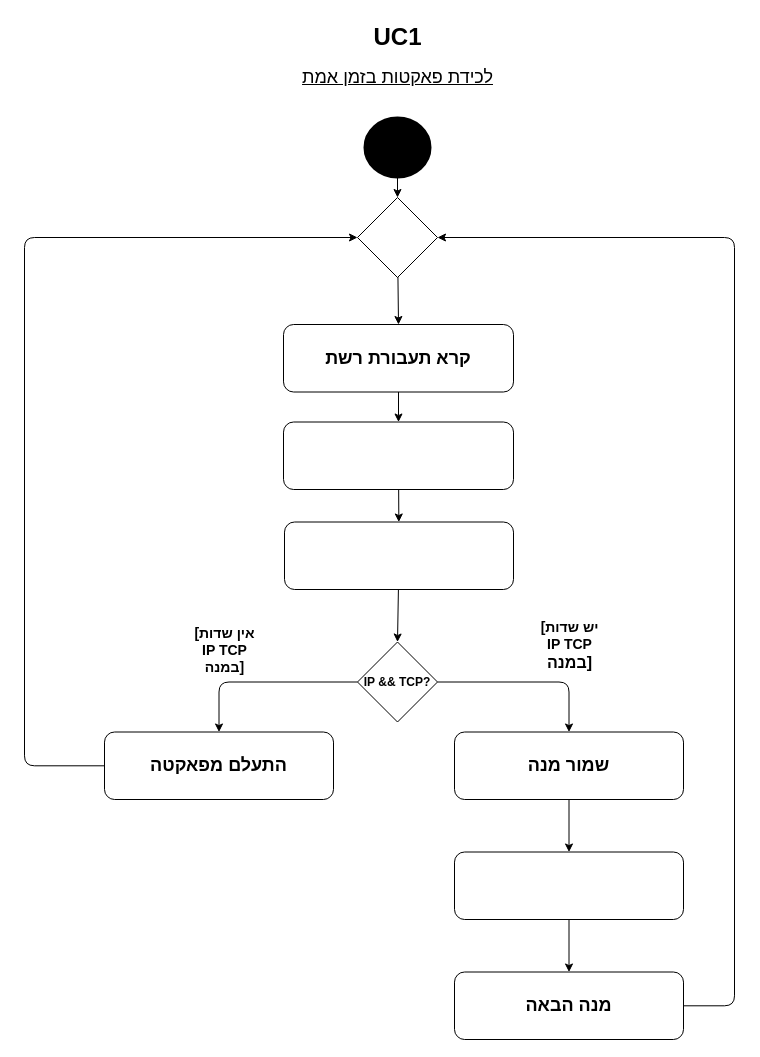
The diagram is 760 pixels wide and 1057 high, and some of its shapes have lost their labels. The box of each missing label's shape, as (x1, y1, x2, y2) in pixels:
לכוד מנה: (282, 421, 514, 490)
סנן לפי שדות IP && TCP: (284, 521, 514, 590)
שמור לתור למנות לבדיקה: (454, 851, 684, 920)
